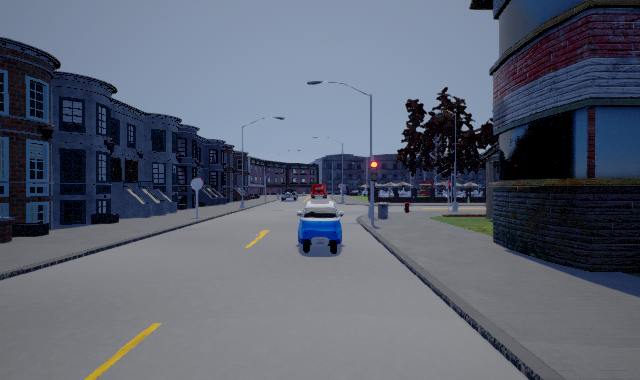traffic_light: (370, 157, 377, 185)
traffic_sign: (338, 183, 344, 189)
vehicle: (297, 200, 344, 254), (309, 183, 329, 202), (280, 188, 297, 202)
